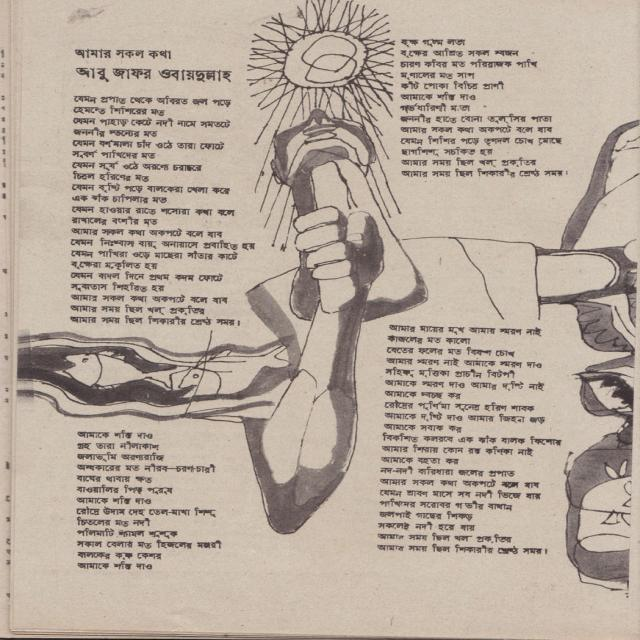image: (14, 0, 640, 597)
paragraph: (68, 95, 258, 328), (376, 323, 564, 556), (398, 38, 569, 179), (75, 429, 224, 571)
text: (74, 65, 234, 84)
title: (72, 46, 176, 62)
